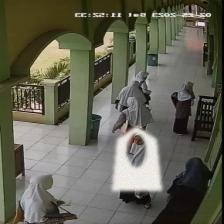Mukena: (112, 125, 161, 191)
